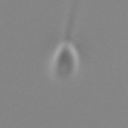normal: (58, 1, 83, 41)
